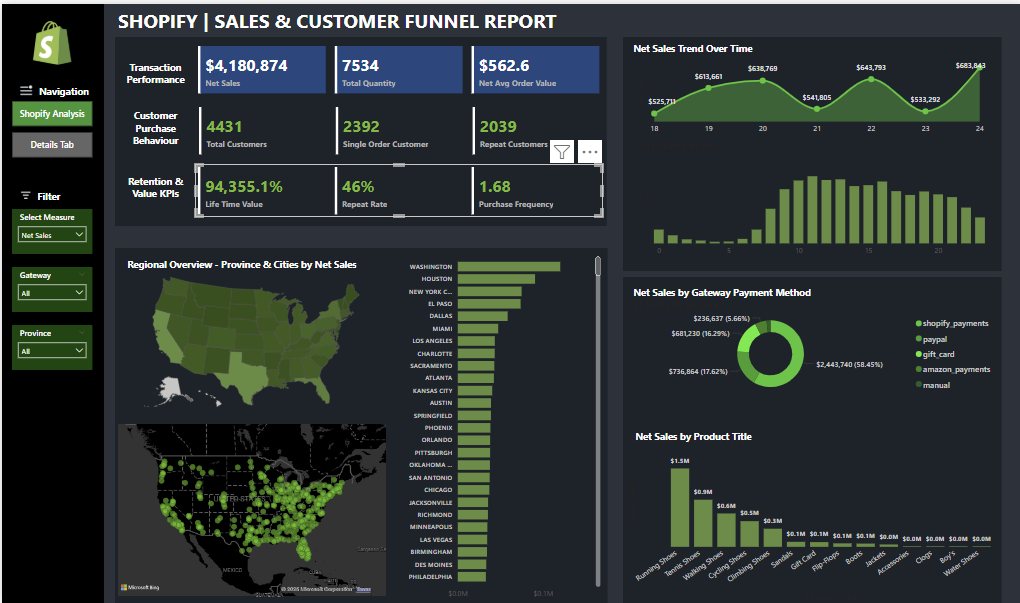

The dashboard page shown, as its layout file describes it:
{"tool":"powerbi","page":{"name":"Shopify Analysis","canvas":[1700,1000],"ordinal":0},"visuals":[{"type":"shape","box":[0,0,170,1000],"z":0},{"type":"textbox","box":[188.4,0,790.6,54.2],"z":1000},{"type":"shape","box":[188.4,54.2,820.2,315.3],"z":2000},{"type":"cardVisual","fields":{"Data":["shopify_sales.Net Sales","shopify_sales.Total Quantity","shopify_sales.Net Avg Order Value"]},"box":[322.4,65.3,679.8,89.9],"z":3000},{"type":"cardVisual","fields":{"Data":["shopify_sales.Transaction Perf"]},"box":[188.4,54.2,135.5,112.1],"z":4000},{"type":"cardVisual","fields":{"Data":["shopify_sales.Customer Purchase Behaviour"]},"box":[188.4,139.8,135.5,125.6],"z":5000},{"type":"cardVisual","fields":{"Data":["shopify_sales.Life Time Value","shopify_sales.Repeat Rate","shopify_sales.Purchase Frequency"]},"box":[322.4,266.1,679.7,89.5],"z":6000},{"type":"cardVisual","fields":{"Data":["shopify_sales.Retention & Value KPIs"]},"box":[188.4,238.9,135.5,125.6],"z":7000},{"type":"shape","box":[187.9,407.3,821,592.7],"z":8000},{"type":"cardVisual","fields":{"Data":["shopify_sales.Total Customers","shopify_sales.Single Order Customer","shopify_sales.Repeat Customers"]},"box":[323.9,166.3,679.8,89.9],"z":9000},{"type":"shapeMap","fields":{"Value":["shopify_sales.Net Sales"],"Category":["shopify_sales.Billing Address Province"]},"box":[188.4,438.4,455.7,250],"z":10000},{"type":"slicer","fields":{"Values":["Select Measure 3.Select Measure"]},"box":[17.2,342.4,134.2,75.1],"z":11000},{"type":"map","fields":{"Category":["shopify_sales.Location"]},"box":[188.4,694.6,455.7,296.8],"z":12000},{"type":"clusteredBarChart","fields":{"Y":["shopify_sales.Net Sales"],"Category":["shopify_sales.CITY"]},"box":[661.1,407.8,341.1,592.2],"z":13000},{"type":"cardVisual","fields":{"Data":["Select Measure 3.Map Title"]},"box":[192.1,397.8,469.2,55.4],"z":14000},{"type":"shape","box":[1034.5,54.2,630.5,390.4],"z":15000},{"type":"areaChart","fields":{"Y":["shopify_sales.Net Sales"],"Category":["shopify_sales.Invoice Date.Variation.Date Hierarchy.Day"]},"box":[1054.2,65.3,589.9,160.1],"z":16000},{"type":"columnChart","fields":{"Y":["shopify_sales.Net Sales"],"Category":["shopify_sales.Hour"]},"box":[1062.8,225.4,581.3,213.1],"z":17000},{"type":"cardVisual","fields":{"Data":["shopify_sales.Trend Title"]},"box":[1034.5,38.2,288.2,54.2],"z":18000},{"type":"shape","box":[1034.5,454.4,630.5,204.4],"z":19000},{"type":"donutChart","fields":{"Y":["shopify_sales.Net Sales"],"Category":["shopify_sales.Gateway"]},"box":[1034.5,487.7,626.8,170],"z":20000},{"type":"cardVisual","fields":{"Data":["Select Measure 3.Gateaway Title"]},"box":[1034.5,444.6,337.4,56.7],"z":21000},{"type":"shape","box":[1034.5,657.6,630.5,342.4],"z":22000},{"type":"columnChart","fields":{"Y":["shopify_sales.Net Sales"],"Category":["shopify_sales.Product Type"]},"box":[1038.2,714.3,630.5,285.7],"z":23000},{"type":"cardVisual","fields":{"Data":["shopify_sales.Product Title"]},"box":[1038.2,684.7,299.3,57.9],"z":24000},{"type":"image","box":[41.9,23.4,85,82.5],"z":25000},{"type":"slicer","fields":{"Values":["shopify_sales.Gateway"]},"box":[17.2,438.4,134.2,75.1],"z":26000},{"type":"slicer","fields":{"Values":["shopify_sales.Billing Address Province"]},"box":[17.2,534.5,134.2,75.1],"z":27000},{"type":"pageNavigator","box":[17.2,161.3,134.2,94.8],"z":28000},{"type":"cardVisual","fields":{"Data":["Select Measure 3.Filter"]},"box":[41.9,284.5,85,51.7],"z":29000},{"type":"cardVisual","fields":{"Data":["Select Measure 3.Navigation"]},"box":[41,110,123.2,50.5],"z":30000},{"type":"bookmarkNavigator","box":[0,0,600,50],"z":31000},{"type":"image","box":[23.4,126.8,34.5,36.9],"z":32000},{"type":"image","box":[17.2,301.7,45.6,34.5],"z":33000}]}

Visuals, with their boxes on the page's 1700x1000 design canvas (x1, y1, x2, y2). These are canvas units, not pixel positions in the 1020x603 screenshot, which may show the page scaled, cropped or inside an application window:
shape: <bbox>0, 0, 170, 1000</bbox>
textbox: <bbox>188, 0, 979, 54</bbox>
shape: <bbox>188, 54, 1009, 370</bbox>
cardVisual - shopify_sales.Net Sales x shopify_sales.Total Quantity: <bbox>322, 65, 1002, 155</bbox>
cardVisual - shopify_sales.Transaction Perf: <bbox>188, 54, 324, 166</bbox>
cardVisual - shopify_sales.Customer Purchase Behaviour: <bbox>188, 140, 324, 265</bbox>
cardVisual - shopify_sales.Life Time Value x shopify_sales.Repeat Rate: <bbox>322, 266, 1002, 356</bbox>
cardVisual - shopify_sales.Retention & Value KPIs: <bbox>188, 239, 324, 364</bbox>
shape: <bbox>188, 407, 1009, 1000</bbox>
cardVisual - shopify_sales.Total Customers x shopify_sales.Single Order Customer: <bbox>324, 166, 1004, 256</bbox>
shapeMap - shopify_sales.Net Sales x shopify_sales.Billing Address Province: <bbox>188, 438, 644, 688</bbox>
slicer - Select Measure 3.Select Measure: <bbox>17, 342, 151, 418</bbox>
map - shopify_sales.Location: <bbox>188, 695, 644, 991</bbox>
clusteredBarChart - shopify_sales.Net Sales x shopify_sales.CITY: <bbox>661, 408, 1002, 1000</bbox>
cardVisual - Select Measure 3.Map Title: <bbox>192, 398, 661, 453</bbox>
shape: <bbox>1034, 54, 1665, 445</bbox>
areaChart - shopify_sales.Net Sales x shopify_sales.Invoice Date.Variation.Date Hierarchy.Day: <bbox>1054, 65, 1644, 225</bbox>
columnChart - shopify_sales.Net Sales x shopify_sales.Hour: <bbox>1063, 225, 1644, 438</bbox>
cardVisual - shopify_sales.Trend Title: <bbox>1034, 38, 1323, 92</bbox>
shape: <bbox>1034, 454, 1665, 659</bbox>
donutChart - shopify_sales.Net Sales x shopify_sales.Gateway: <bbox>1034, 488, 1661, 658</bbox>
cardVisual - Select Measure 3.Gateaway Title: <bbox>1034, 445, 1372, 501</bbox>
shape: <bbox>1034, 658, 1665, 1000</bbox>
columnChart - shopify_sales.Net Sales x shopify_sales.Product Type: <bbox>1038, 714, 1669, 1000</bbox>
cardVisual - shopify_sales.Product Title: <bbox>1038, 685, 1338, 743</bbox>
image: <bbox>42, 23, 127, 106</bbox>
slicer - shopify_sales.Gateway: <bbox>17, 438, 151, 514</bbox>
slicer - shopify_sales.Billing Address Province: <bbox>17, 534, 151, 610</bbox>
pageNavigator: <bbox>17, 161, 151, 256</bbox>
cardVisual - Select Measure 3.Filter: <bbox>42, 284, 127, 336</bbox>
cardVisual - Select Measure 3.Navigation: <bbox>41, 110, 164, 160</bbox>
bookmarkNavigator: <bbox>0, 0, 600, 50</bbox>
image: <bbox>23, 127, 58, 164</bbox>
image: <bbox>17, 302, 63, 336</bbox>
